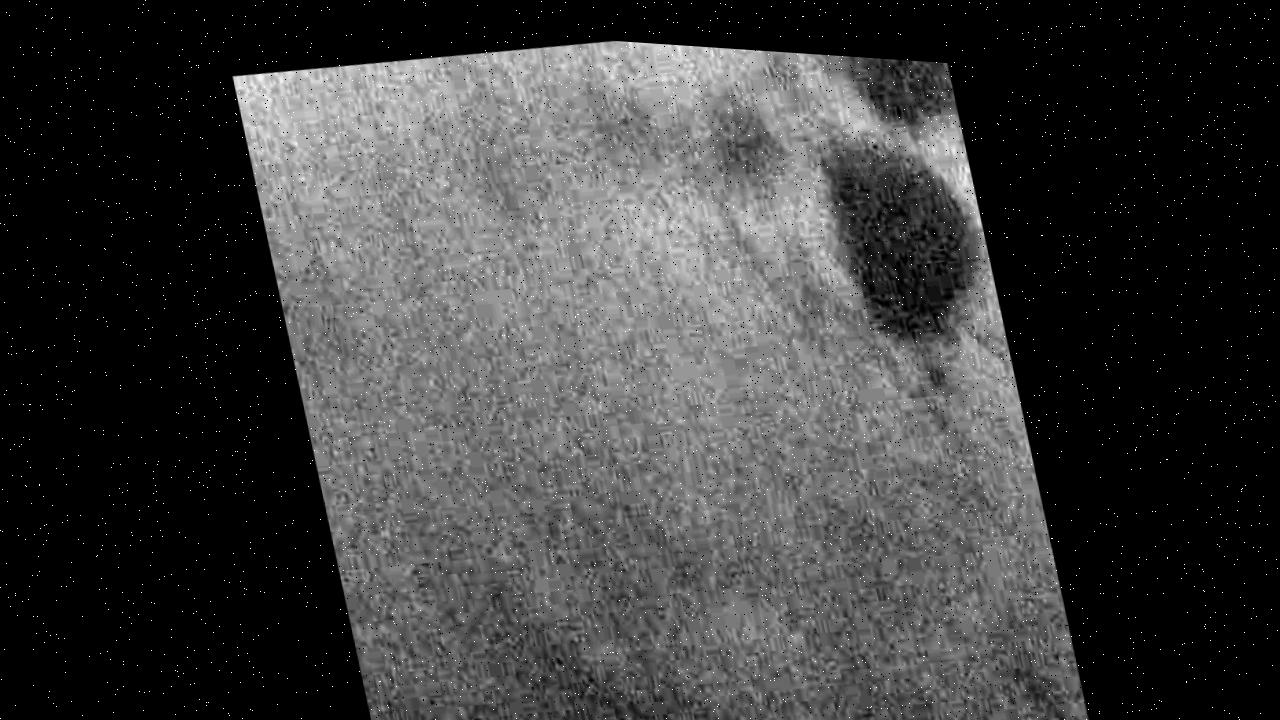drinks Stains: (659, 35, 1006, 374)
